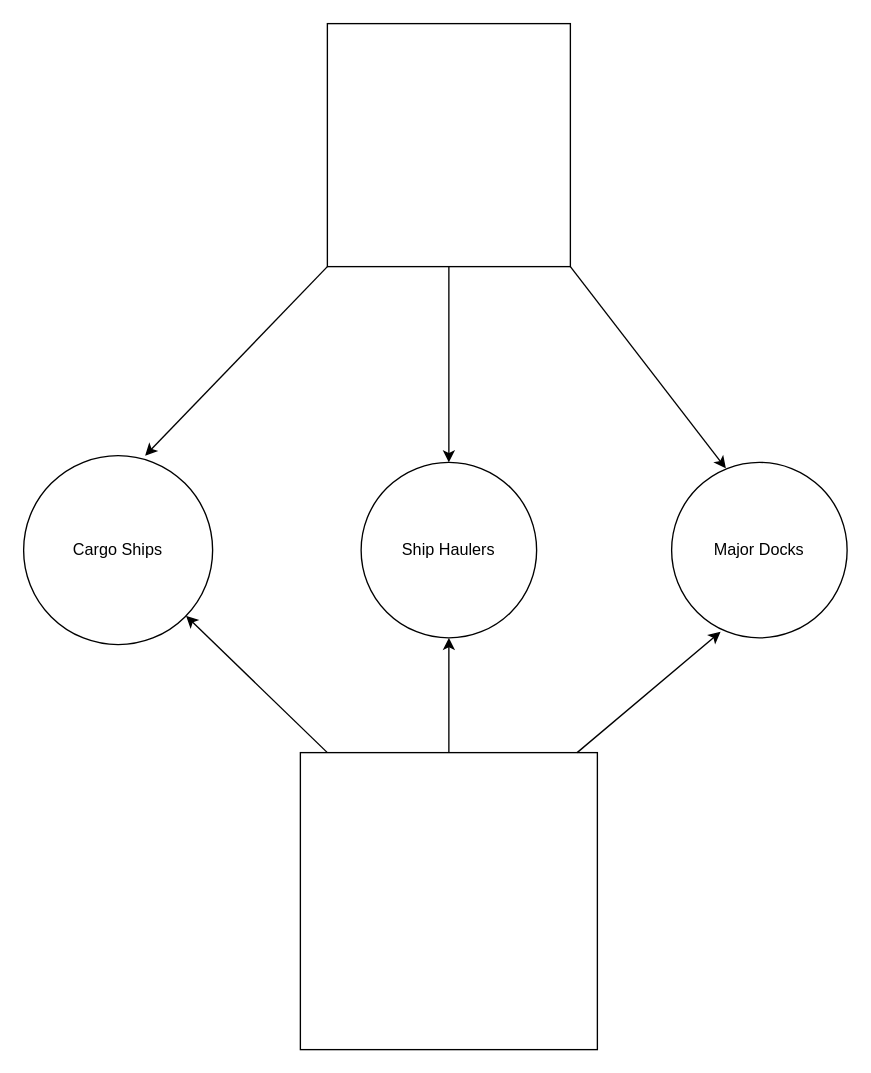
Image size: 871x1073. Some labels were removed from this diagram. Each missing label, with the centre of its shape:
Database.js: the point at 448,900
main.js: the point at 448,144
